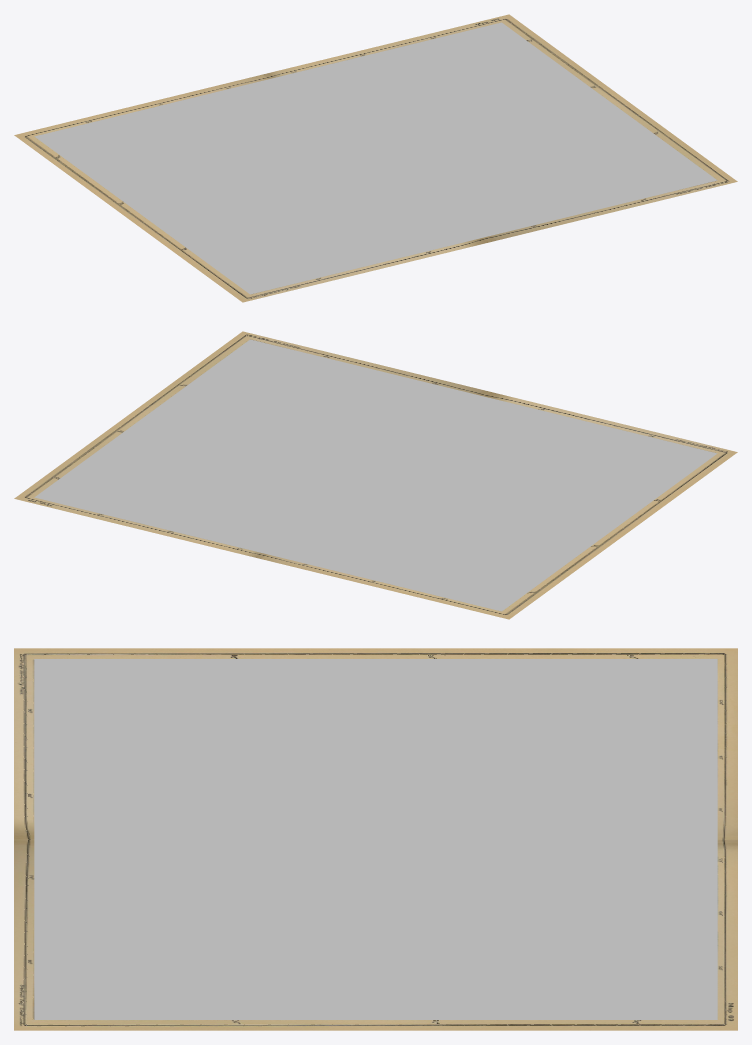
Rendered from Map.obj.
3 renders of one model, top to bottom at view 1: azimuth 30°, elevation 25°; view 2: azimuth 150°, elevation 25°; view 3: azimuth 270°, elevation 25°, orthographic. The views are drawn at different scales.
Visible parts, largest first — view 1: Plane; view 2: Plane; view 3: Plane.
Boxes of the visible parts, box(x1,y1,x2,y2) form: Plane: box(14, 14, 737, 302); Plane: box(14, 331, 737, 619); Plane: box(14, 648, 737, 1030).
Size of the model in its own units: 100 by 0 by 80.
Materials: 2 (1 with a texture image).
